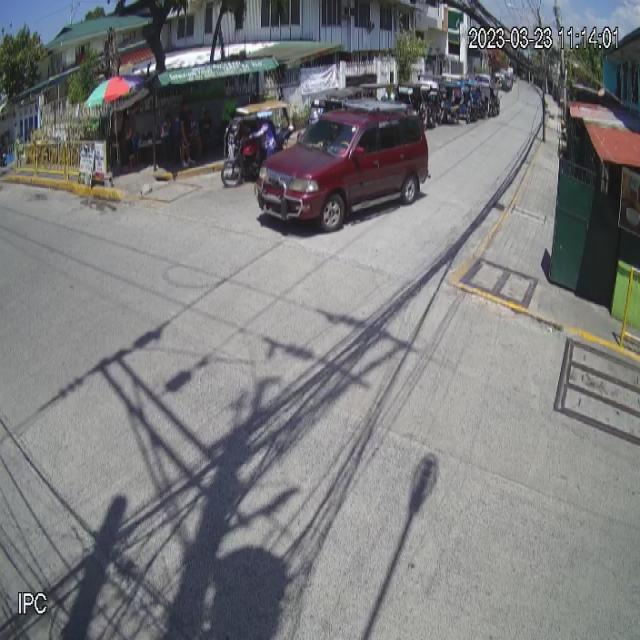Car: (254, 98, 432, 234)
